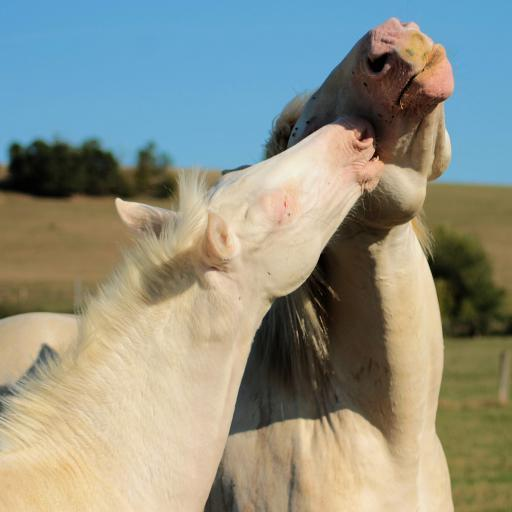horse: (0, 115, 384, 511), (206, 16, 454, 512)
